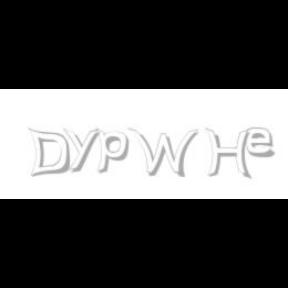D: (28, 128, 70, 178)
H: (205, 128, 251, 180)
W: (127, 128, 199, 178)
e: (246, 128, 280, 158)
p: (96, 128, 132, 174)
y: (63, 128, 103, 172)
